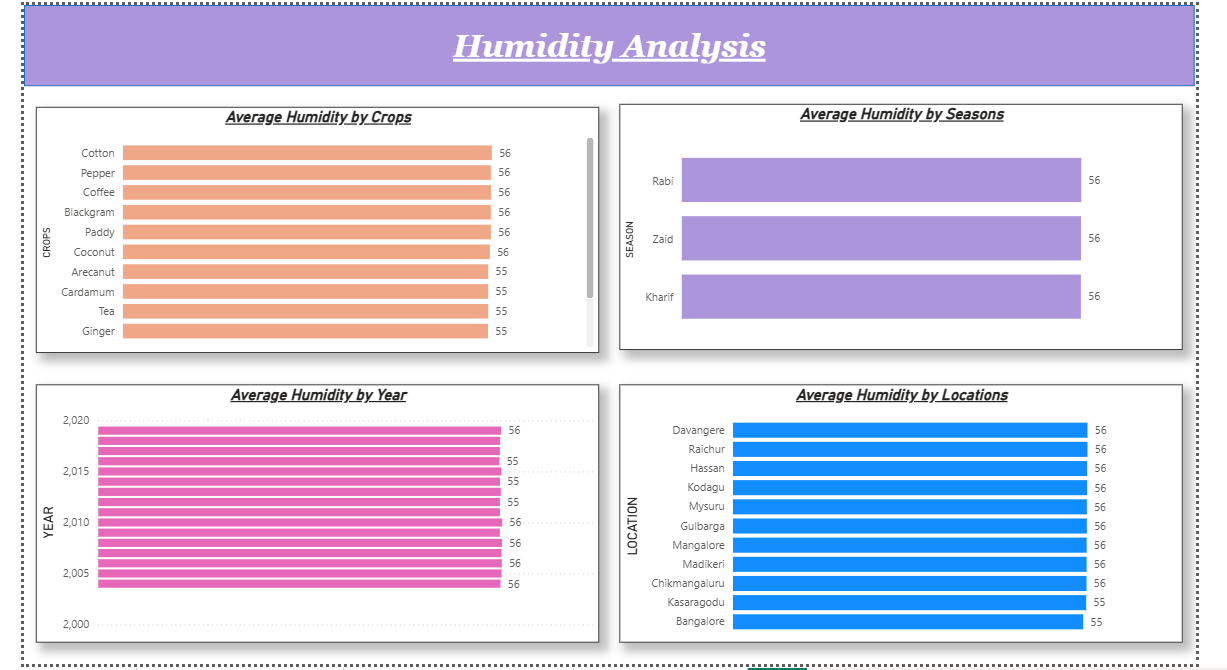

What the dashboard file says about the page in this screenshot:
{"tool":"powerbi","page":{"name":"Humidity Analysis","canvas":[1280,720],"ordinal":1},"visuals":[{"type":"shape","box":[0,0,1279.4,88.8],"z":0},{"type":"barChart","title":"Average Humidity by Crops","fields":{"Category":["AGRICULTURE.CROPS"],"Y":["Avg(AGRICULTURE.HUMIDITY)"]},"box":[13.3,111.1,615.6,268.9],"z":1000},{"type":"barChart","title":"Average Humidity by Seasons","fields":{"Category":["AGRICULTURE.SEASON"],"Y":["Avg(AGRICULTURE.HUMIDITY)"]},"box":[651.1,108.9,615.6,268.9],"z":2000},{"type":"barChart","title":"Average Humidity by Year","fields":{"Category":["AGRICULTURE.YEAR"],"Y":["Avg(AGRICULTURE.HUMIDITY)"]},"box":[13.3,415.6,615.6,282.2],"z":3000},{"type":"barChart","title":"Average Humidity by Locations","fields":{"Category":["AGRICULTURE.LOCATION"],"Y":["Avg(AGRICULTURE.HUMIDITY)"]},"box":[651.1,415.6,615.6,282.2],"z":4000}]}

Visuals, with their boxes on the page's 1280x720 design canvas (x1, y1, x2, y2). These are canvas units, not pixel positions in the 1227x670 screenshot, which may show the page scaled, cropped or inside an application window:
shape: detection(0, 0, 1279, 89)
"Average Humidity by Crops" barChart: detection(13, 111, 629, 380)
"Average Humidity by Seasons" barChart: detection(651, 109, 1267, 378)
"Average Humidity by Year" barChart: detection(13, 416, 629, 698)
"Average Humidity by Locations" barChart: detection(651, 416, 1267, 698)
